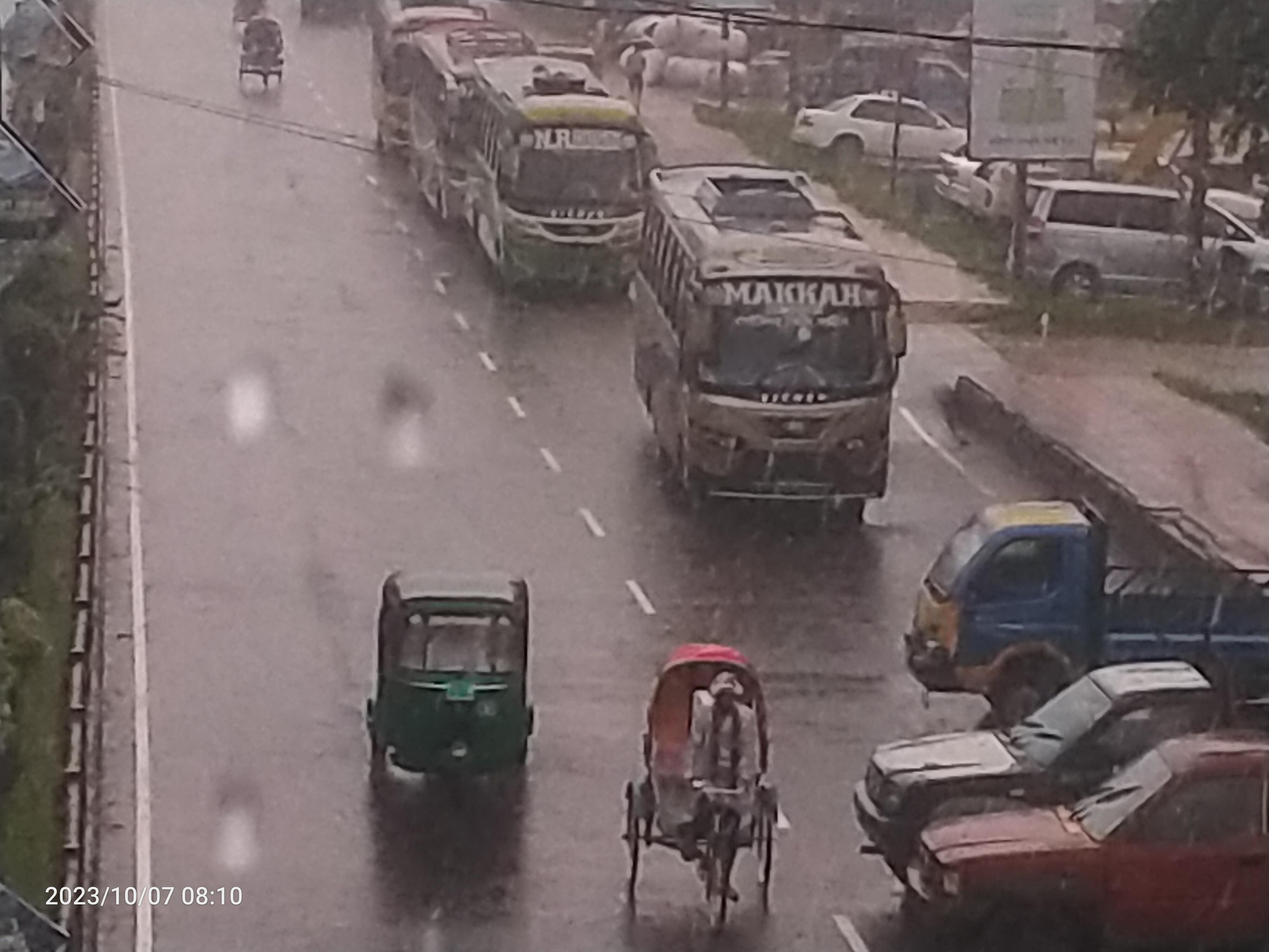Bus: (600, 145, 918, 547), (447, 54, 656, 315), (379, 24, 496, 249)
Car: (588, 598, 816, 952), (997, 168, 1262, 315), (771, 74, 1014, 184), (920, 130, 1053, 229), (219, 0, 293, 105)
Truck: (894, 465, 1269, 715), (887, 728, 1269, 952), (823, 658, 1265, 813)
